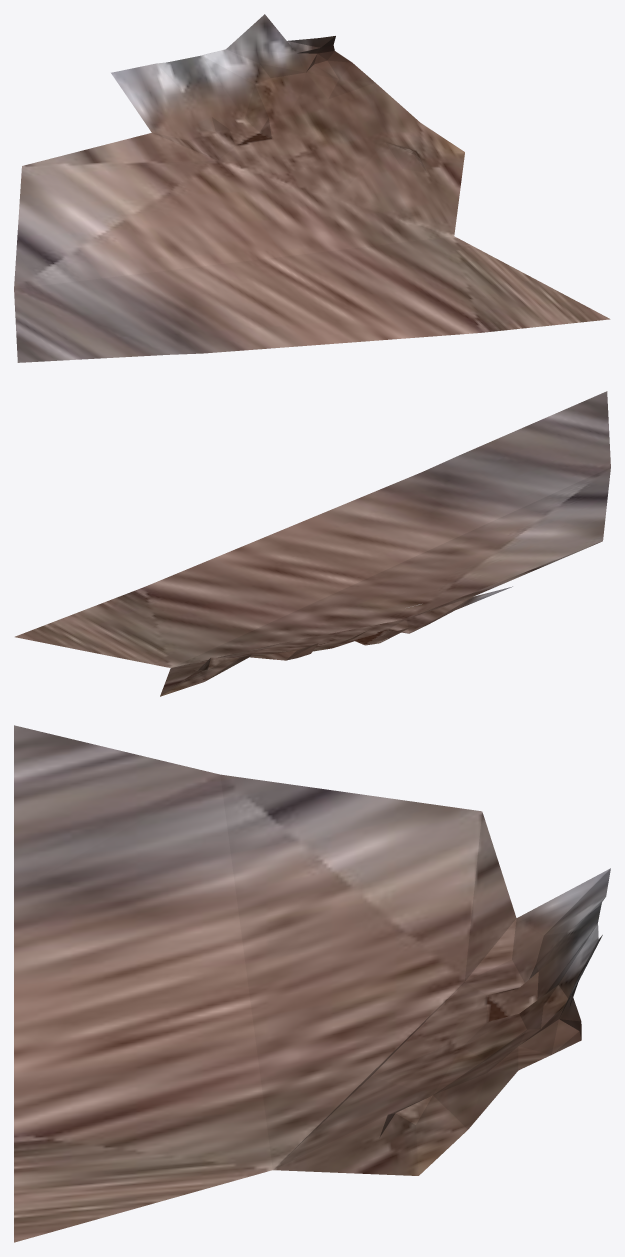
3 views of the same model, one above another, from view 1: azimuth 30°, elevation 25°; view 2: azimuth 210°, elevation 25°; view 3: azimuth 270°, elevation 25° (orthographic). The views are drawn at different scales.
Size of the model in its own units: 4.45 by 1.22 by 2.9.
Materials: 1 (1 with a texture image).
